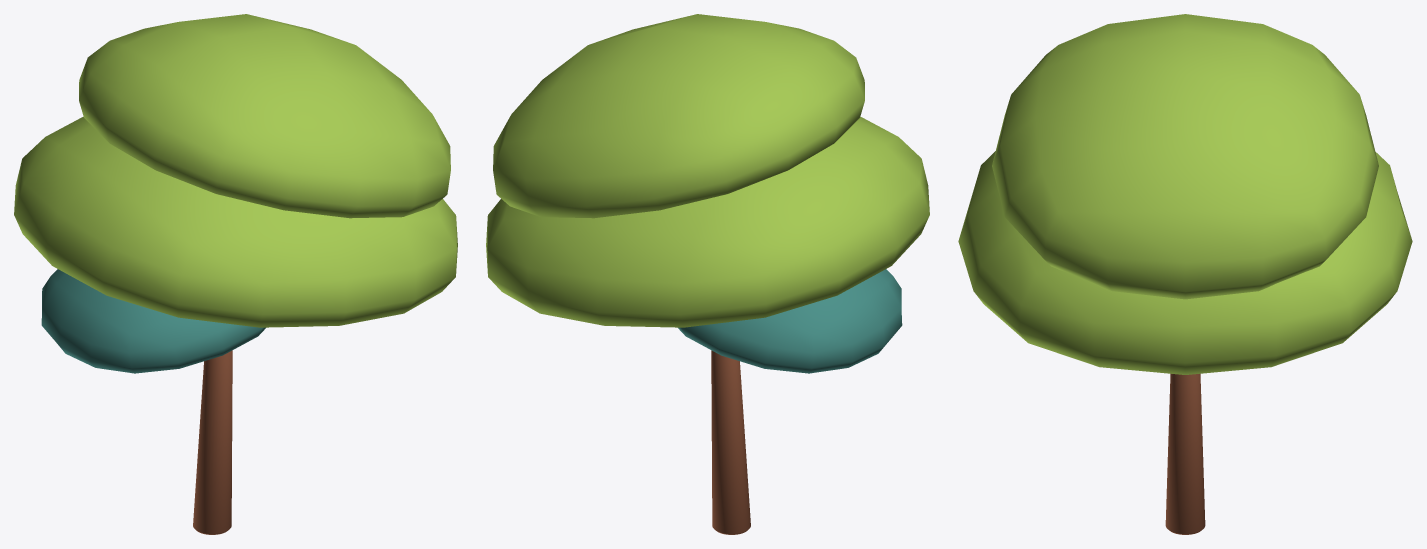
File: tree14.fbx
The picture shows the model from 3 angles, left to right: view 1: azimuth 30°, elevation 25°; view 2: azimuth 150°, elevation 25°; view 3: azimuth 270°, elevation 25°; orthographic projection. The views are drawn at different scales.
Parts seen in each view (by area): view 1: tree14; view 2: tree14; view 3: tree14.
Boxes of the visible parts, x1,y1,x2,y2 form: tree14: (14, 14, 457, 534); tree14: (486, 14, 929, 534); tree14: (958, 14, 1412, 534).
Size of the model in its own units: 761 by 934 by 768.
